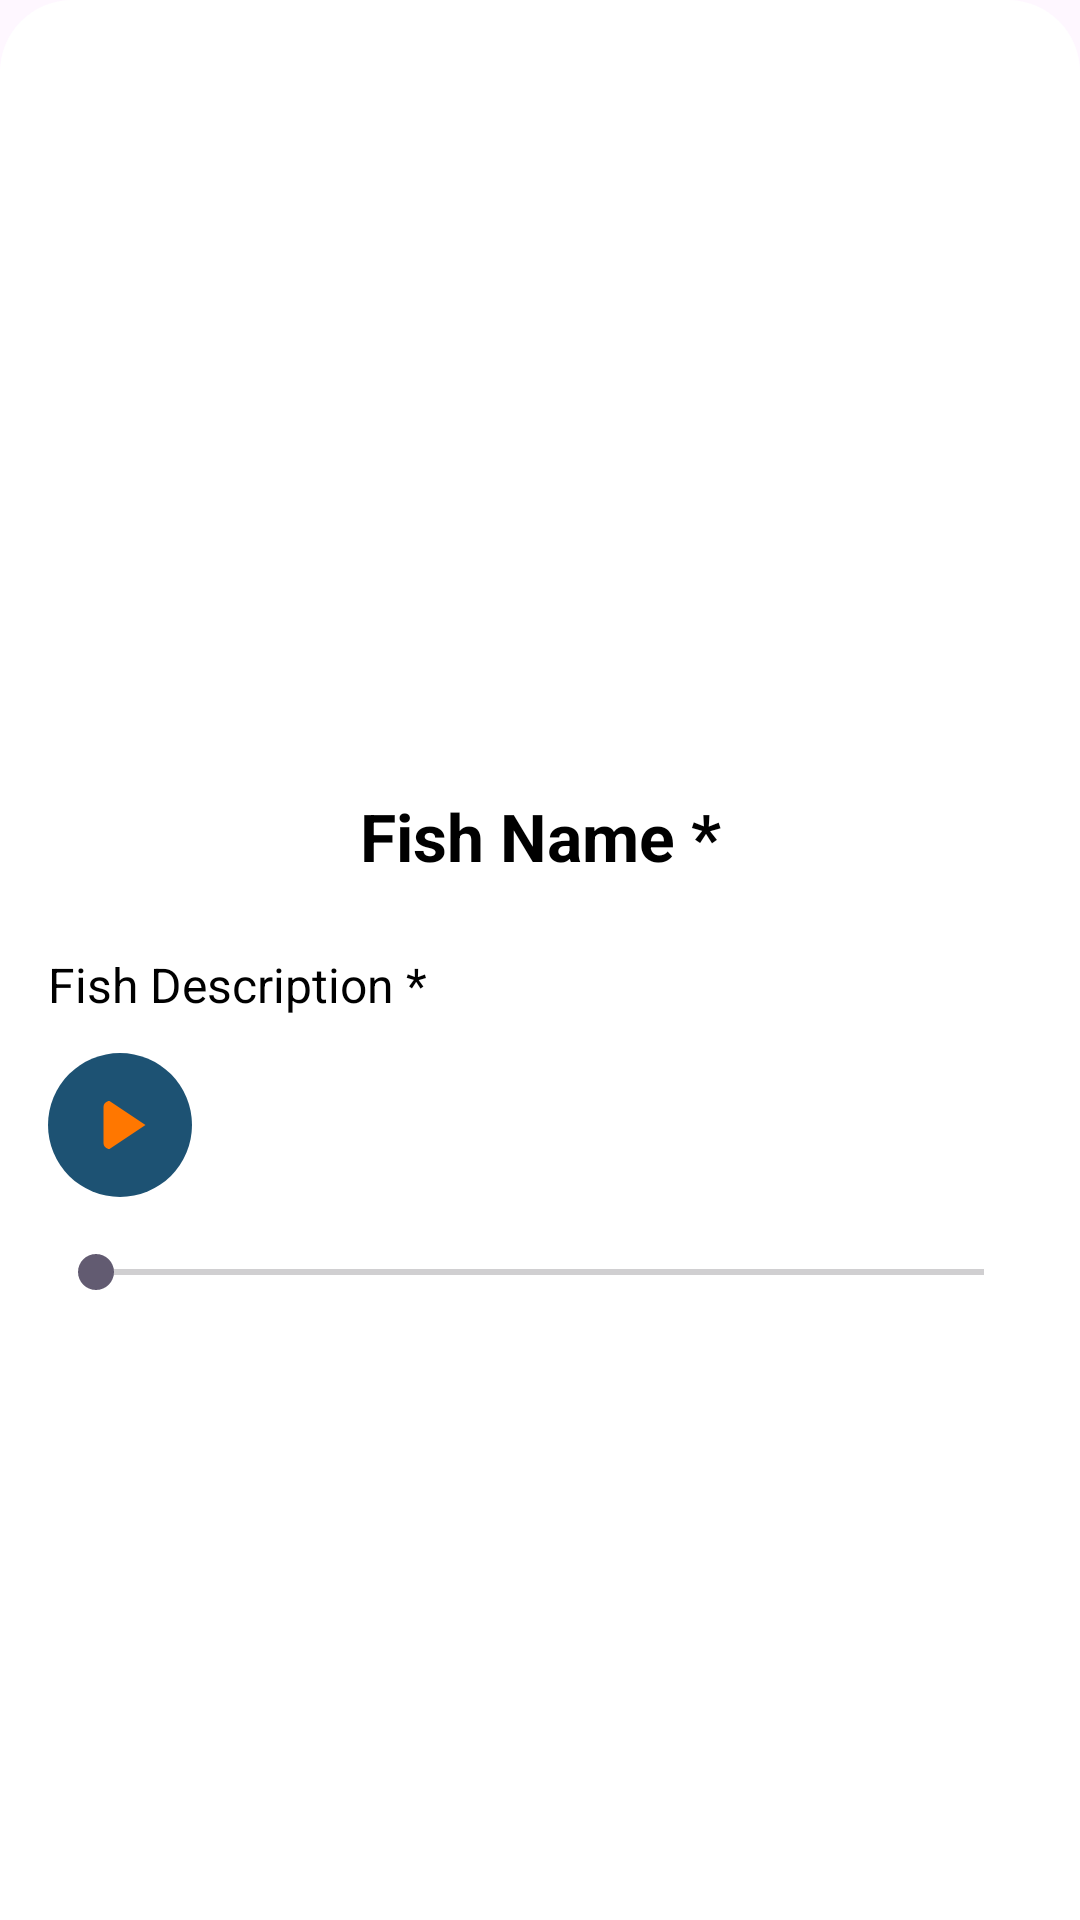

Icon bounding boxes for this 1080×1920 phone screenshot, format (x1, y1, x2, y2):
Play: (48, 1053, 192, 1197)
